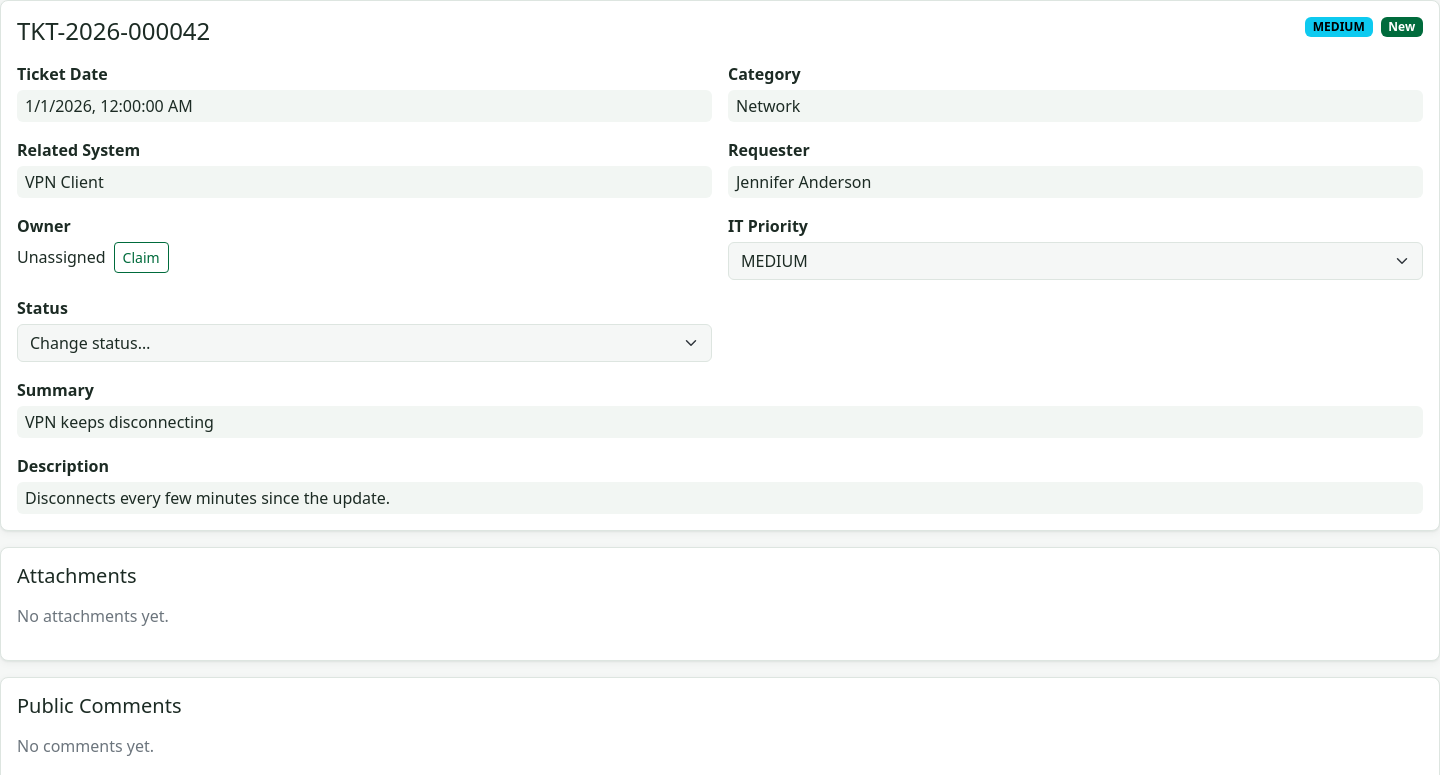
Test: StaffTicketDetail › only offers valid next statuses and shows a 409 error without changing the displayed status (BR-17, AC-07)
Expected: the heading "TKT-2026-000042" is shown, [17, 17, 210, 46]
Select "CANCELLED" in the dropdown labelled "Status" at (364, 343), box [17, 324, 712, 362]
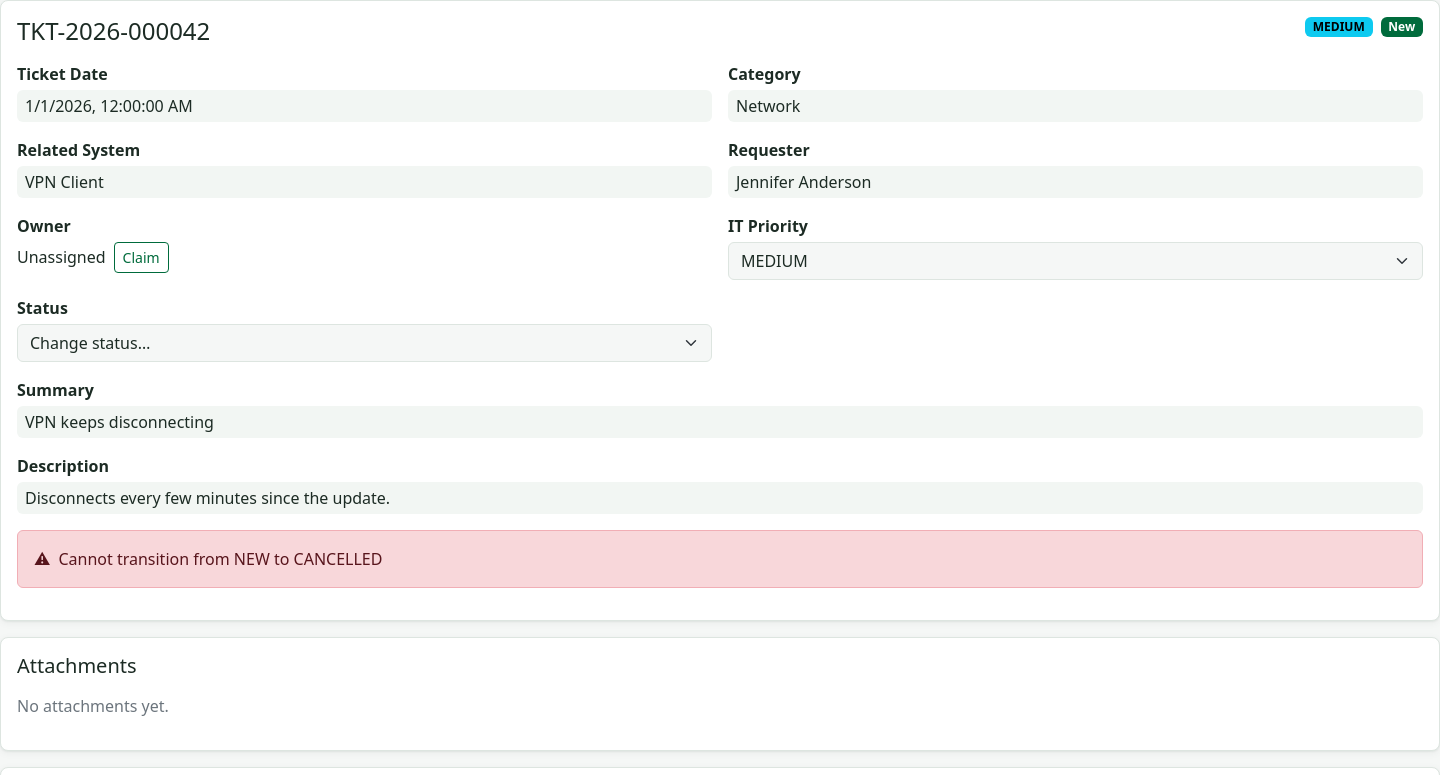
Expected: the text "Cannot transition from NEW to CANCELLED" is shown, [58, 547, 382, 571]
